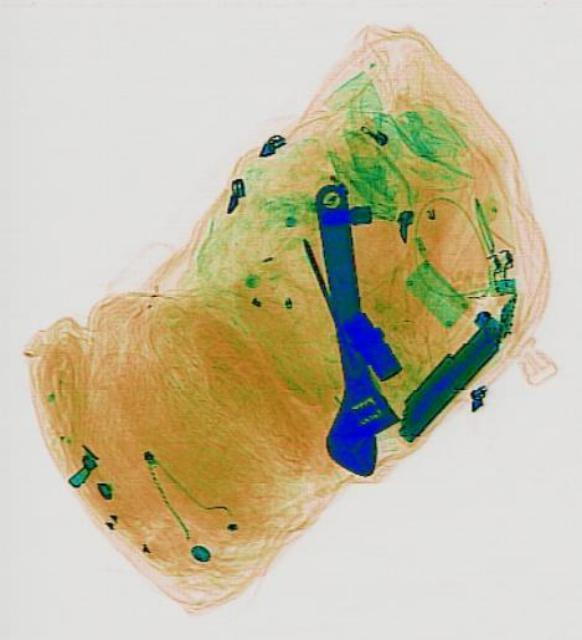Wrench: (298, 178, 403, 480)
